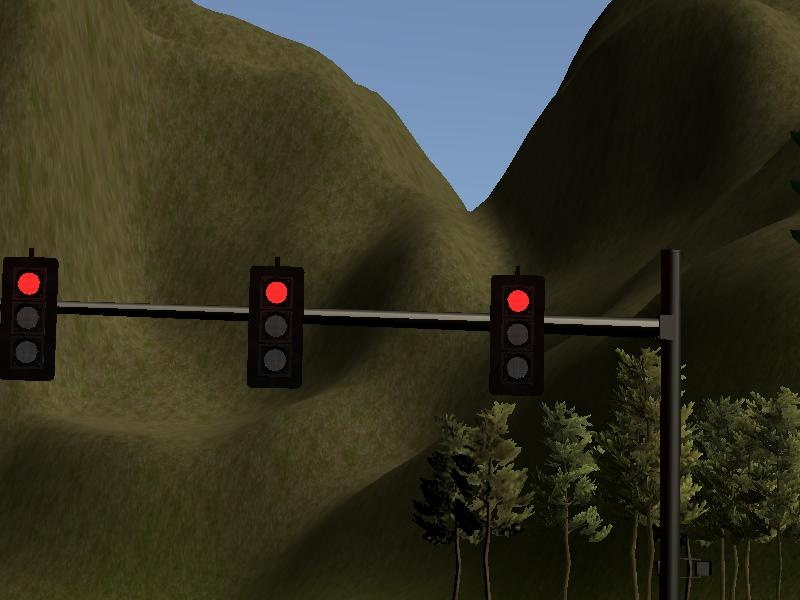red: (241, 259, 307, 395), (1, 254, 65, 382), (486, 267, 546, 399)
